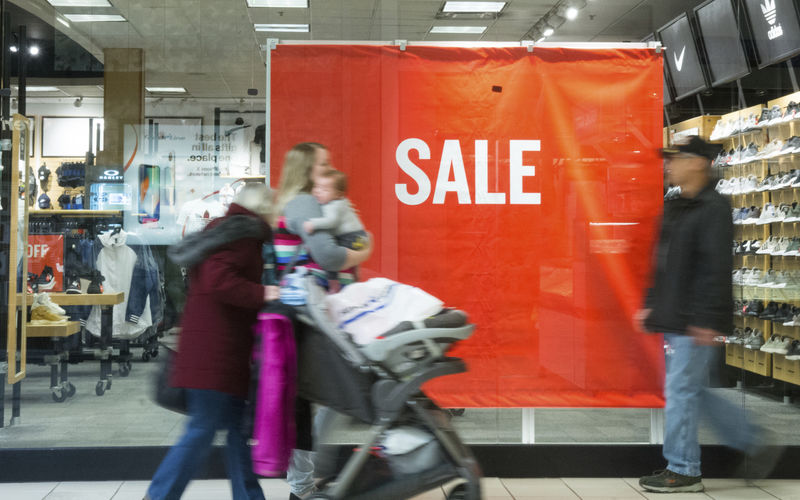Not_Face: (664, 139, 719, 189), (235, 178, 282, 223), (289, 146, 334, 179), (308, 172, 352, 200)
